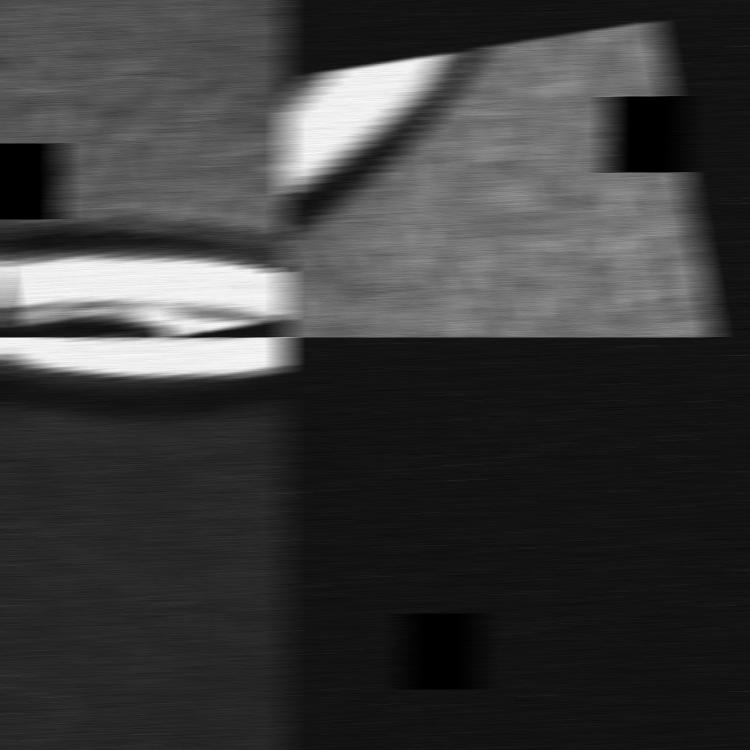AirbagV2: (280, 0, 750, 337), (0, 337, 290, 750), (0, 0, 290, 337)
